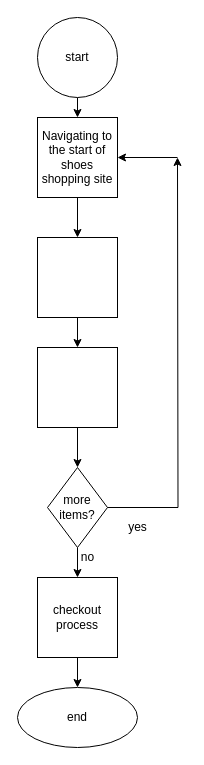
Some shapes in this 204 by 765 pixel diagram are drawn without their labels. Each missing label, with the centre of its shape:
"identify shoes for purchase (put in cart)" belongs at (x=77, y=387).
"search for product items(shoes)" belongs at (x=77, y=277).
